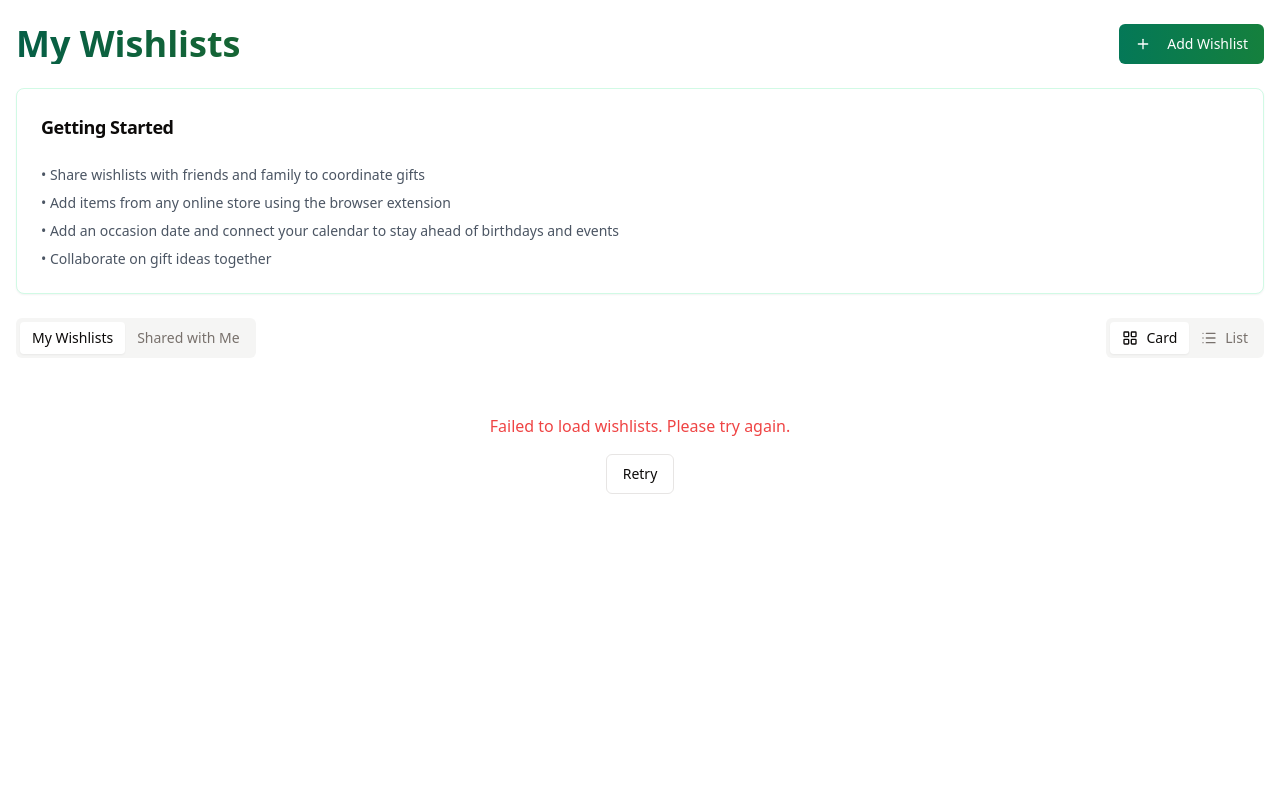
Test: Wishlists › shows an error state with a Retry button that re-fetches
Expected: the text "Failed to load wishlists. Please try again." is shown, x1=490 y1=415 x2=790 y2=437
Click the button "Retry": (640, 474) x1=606 y1=454 x2=674 y2=494
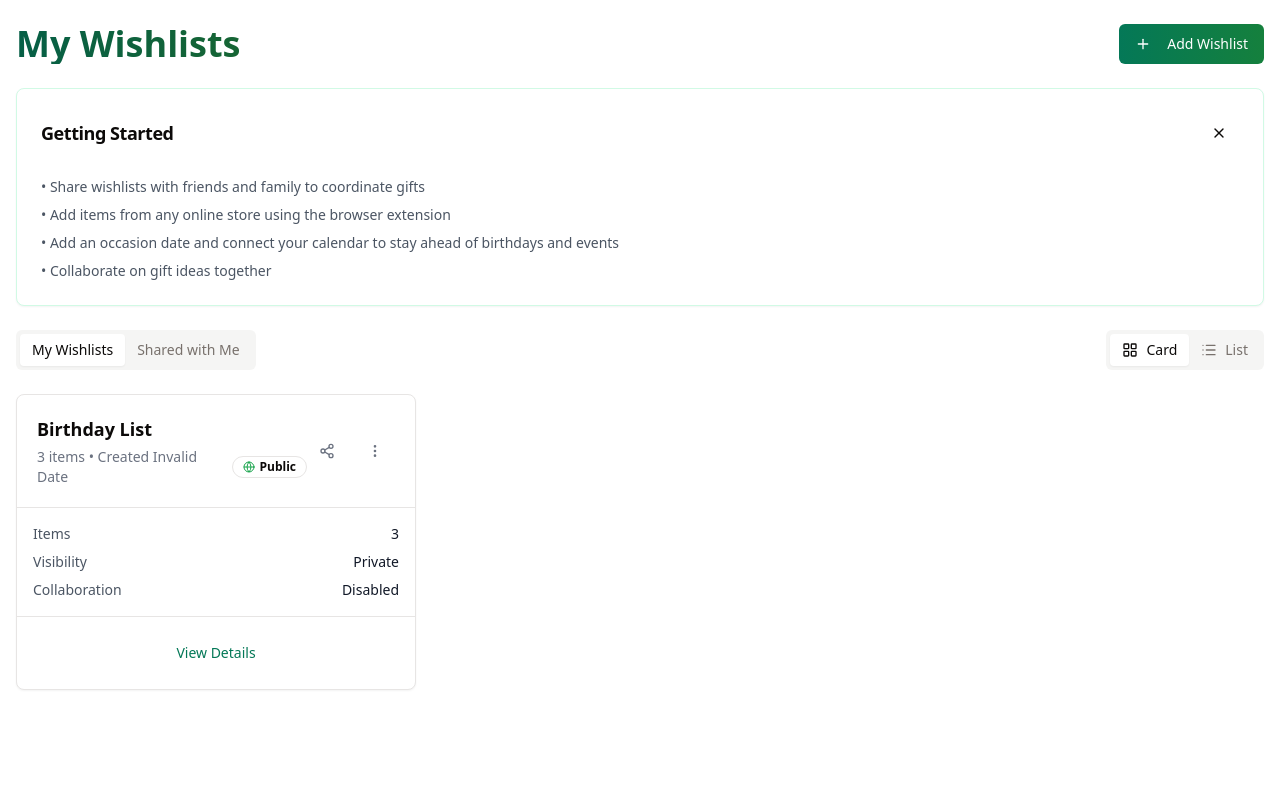
Now the heading "Birthday List" is shown, box x1=37 y1=417 x2=152 y2=441
